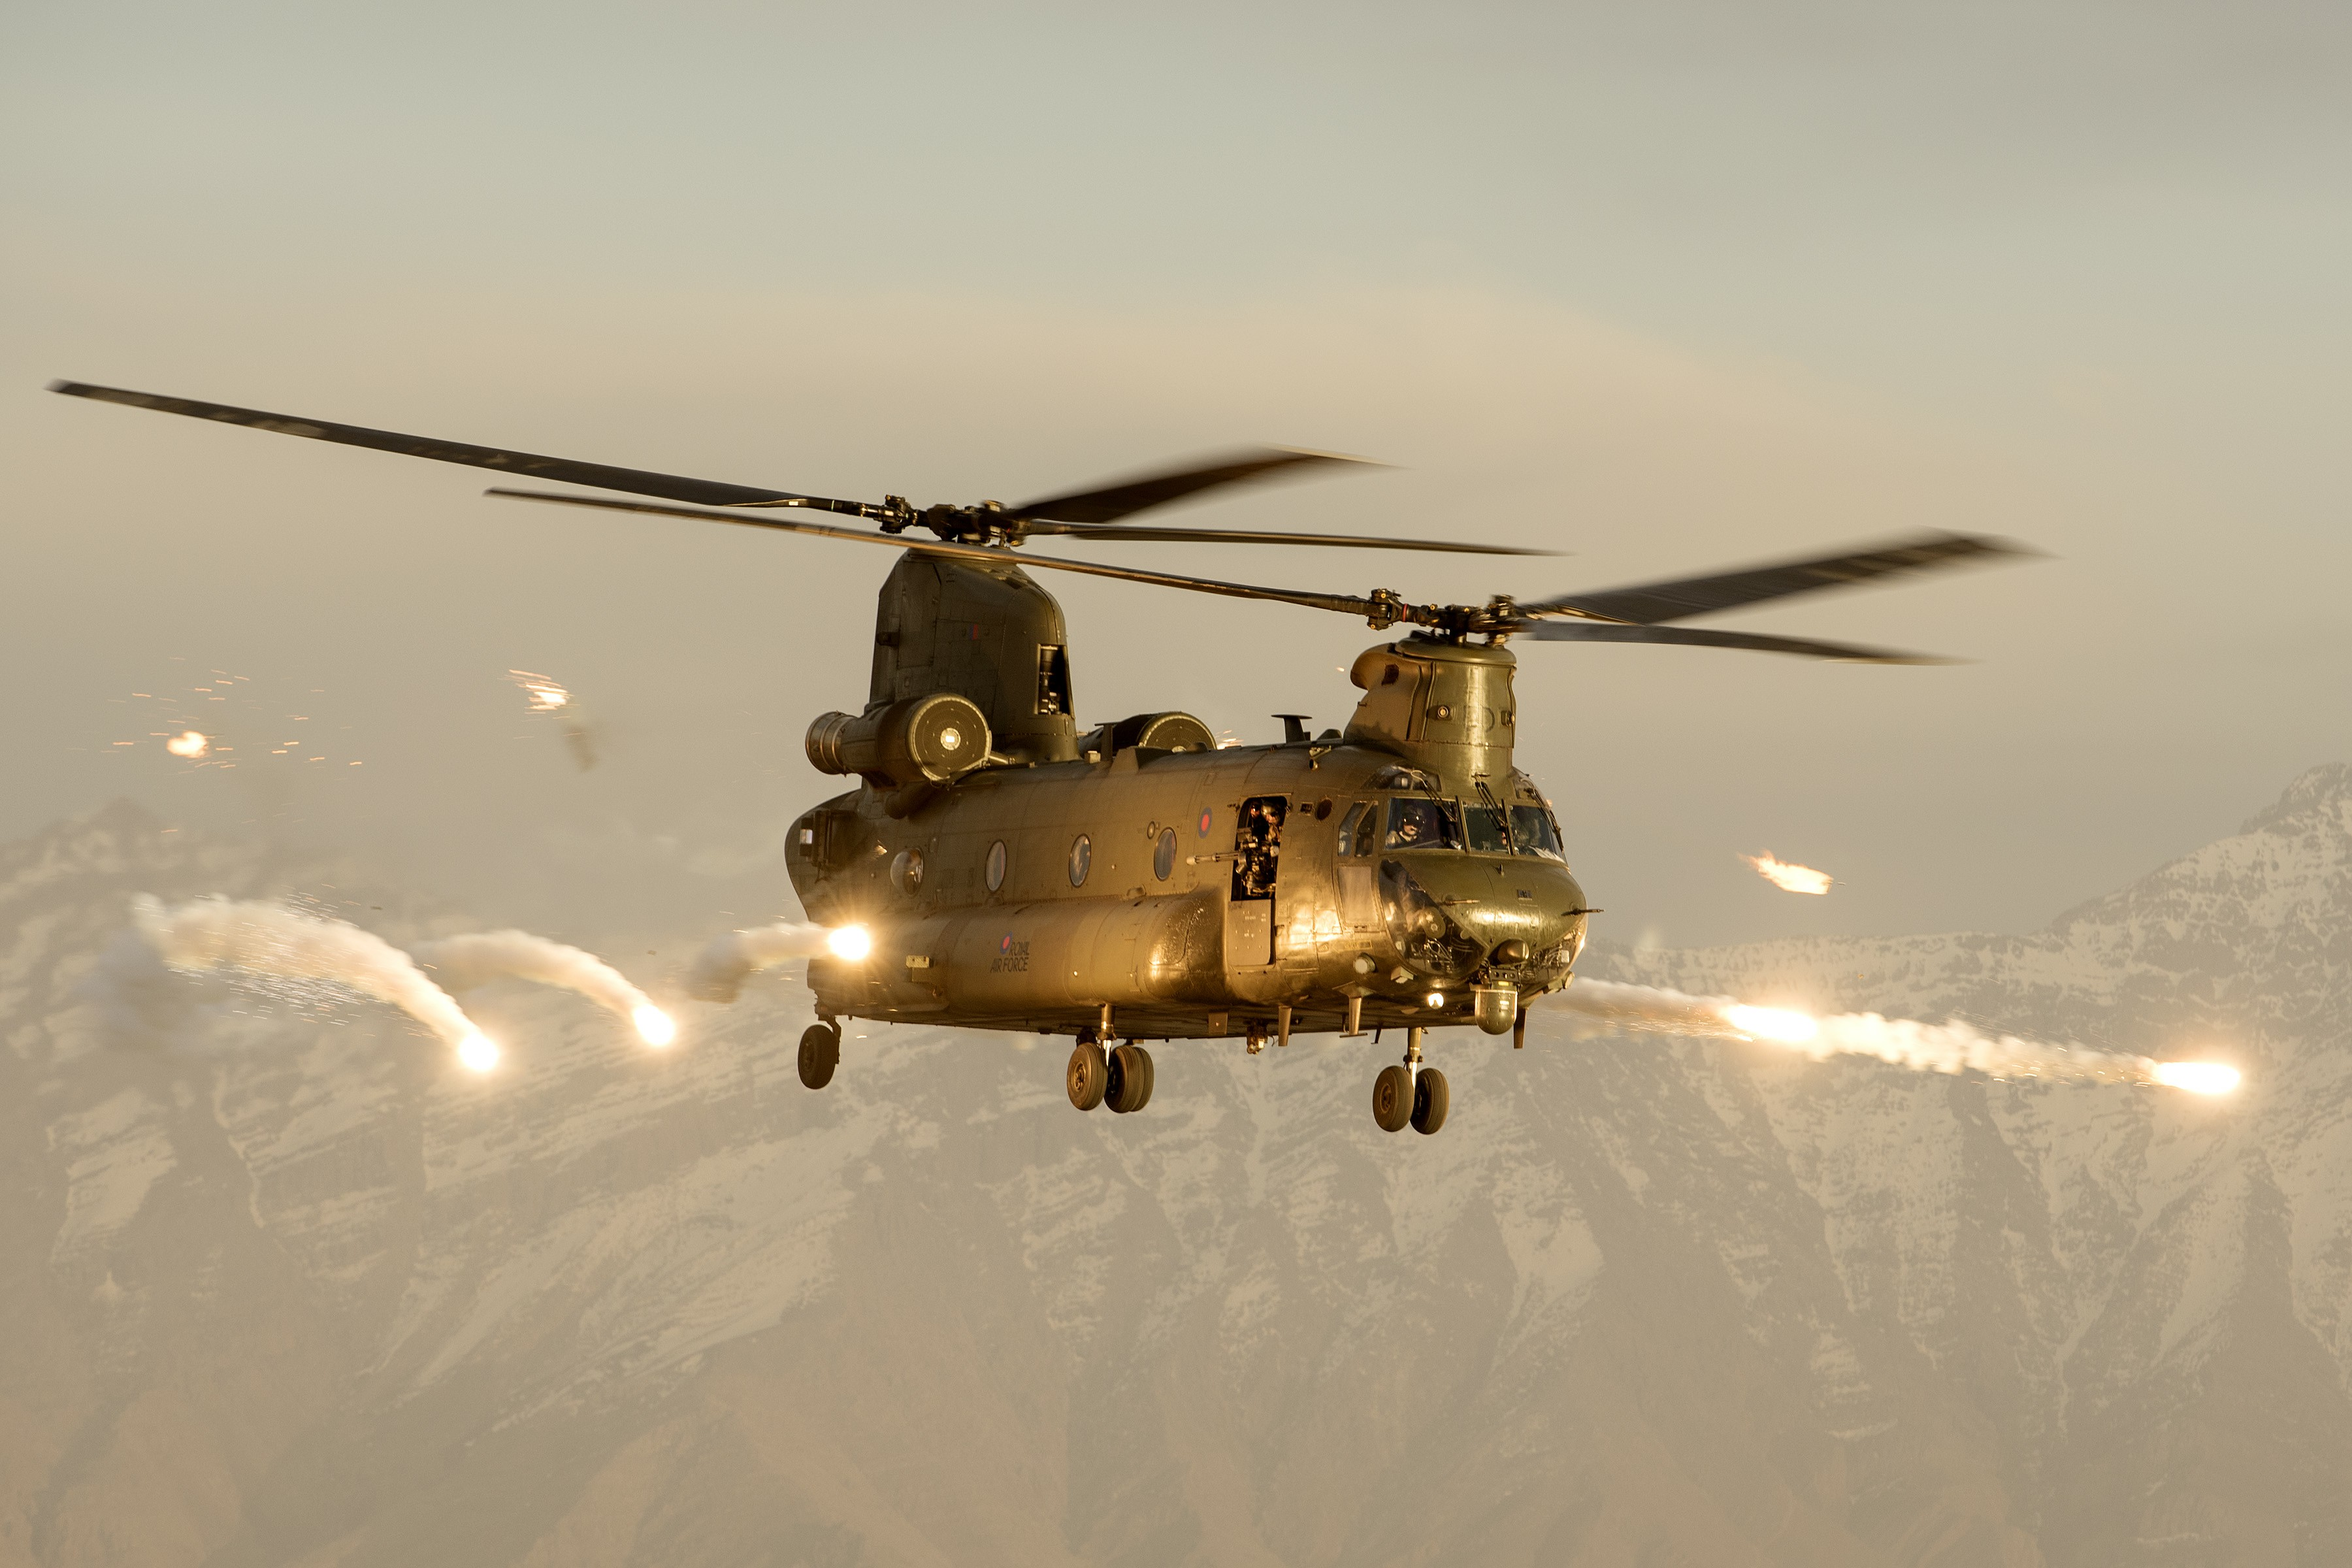chinook: (549, 430, 1811, 1228)
